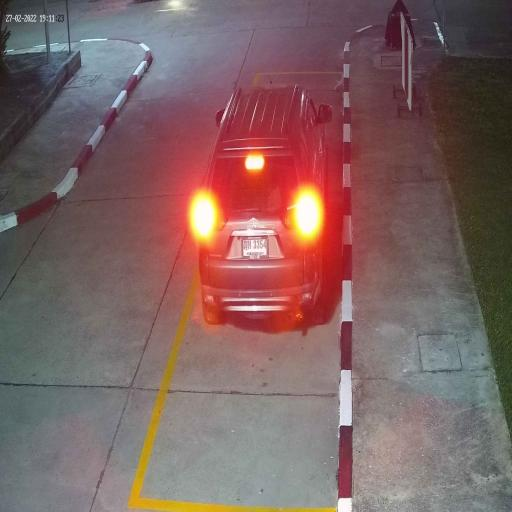car: (198, 82, 328, 327)
